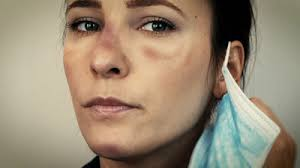without_mask: (65, 1, 184, 162)
